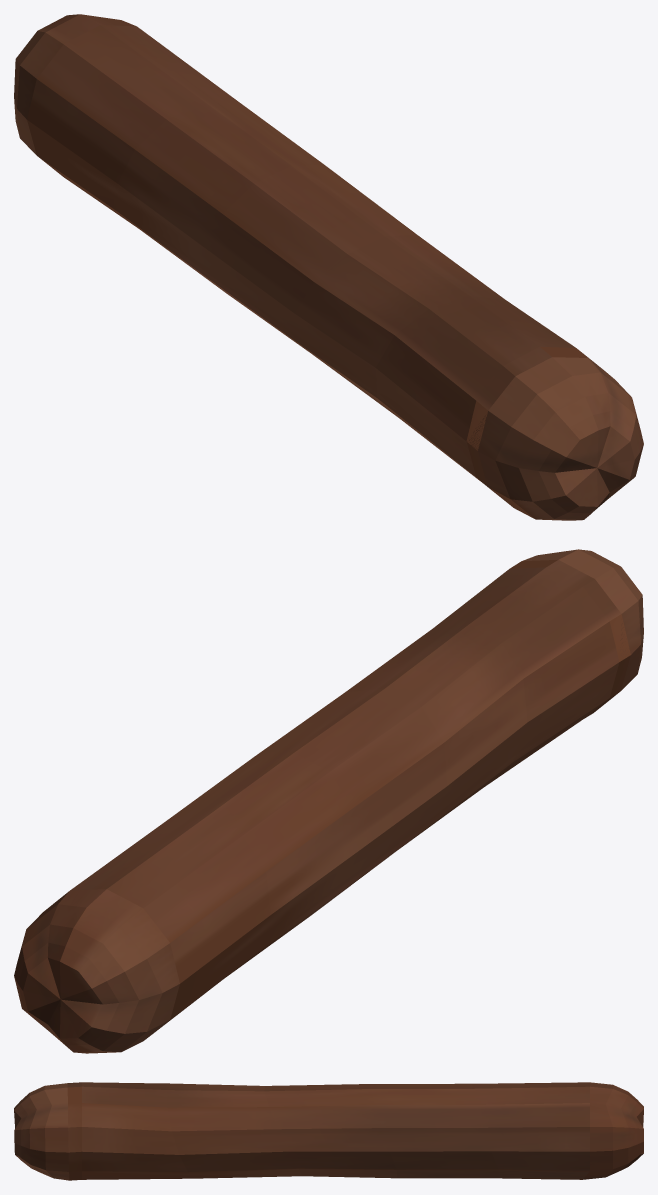
The model's file is sausage.fbx.
3 views of the same model, one above another, from view 1: azimuth 30°, elevation 25°; view 2: azimuth 150°, elevation 25°; view 3: azimuth 270°, elevation 25° (orthographic). The views are drawn at different scales.
Parts seen in each view (by area): view 1: hot_dog_Cylinder.001; view 2: hot_dog_Cylinder.001; view 3: hot_dog_Cylinder.001.
Part boxes in pixels (<box>): hot_dog_Cylinder.001: <box>14,14,643,520</box>; hot_dog_Cylinder.001: <box>14,549,643,1053</box>; hot_dog_Cylinder.001: <box>14,1082,643,1180</box>.
Bounding box in the file's own units: 25.64 × 25.85 × 165.
